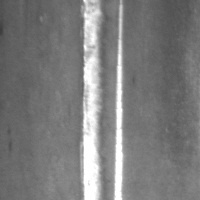scratches: (78, 0, 106, 199), (110, 0, 127, 199)
